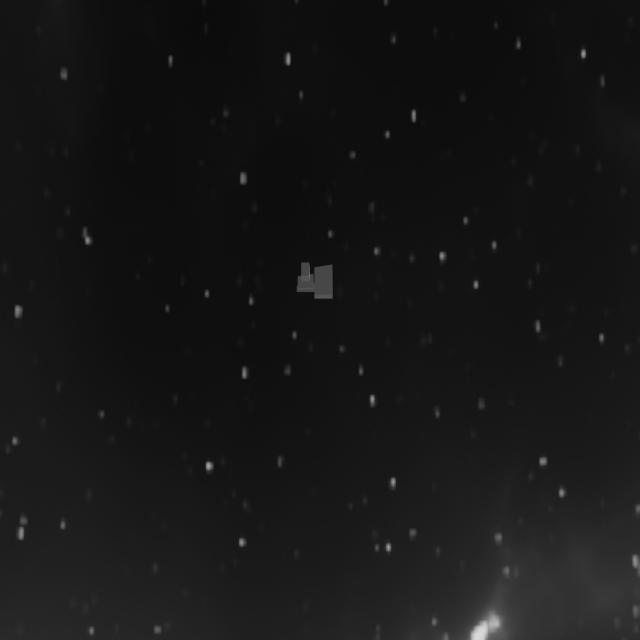large_debris: (296, 257, 339, 303)
